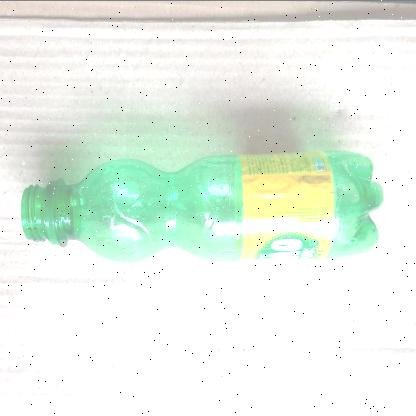Plastic Bottle: (21, 148, 383, 264)
